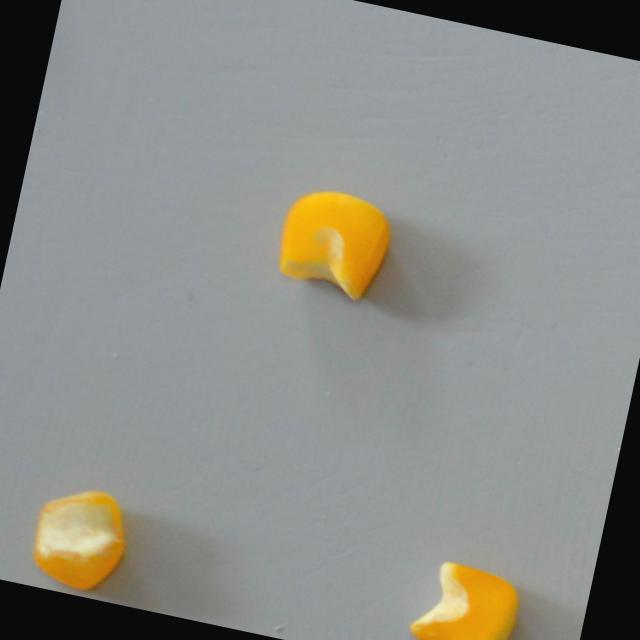no_canjicado: (273, 183, 395, 303), (26, 477, 136, 597), (408, 556, 525, 640)
